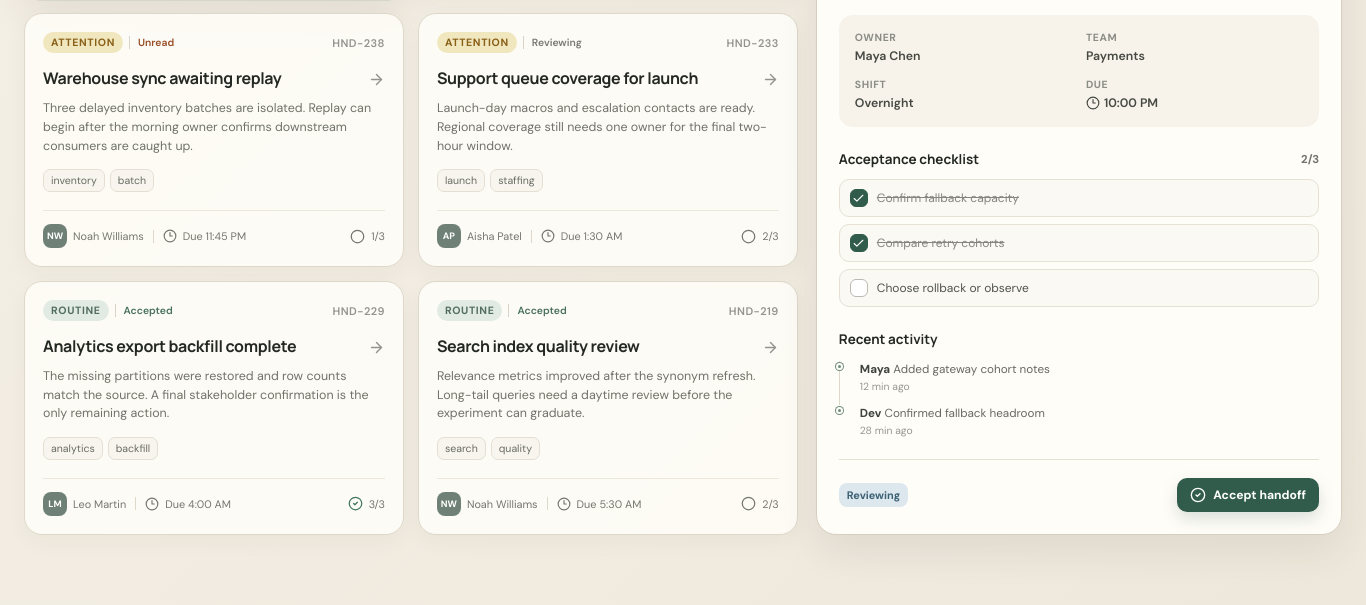
it: Handoff Lantern › advances a reviewed handoff to accepted
This screenshot has width=1366, height=605.
(page scrolled)
Click the button "Accept handoff" at (1248, 495), box [1177, 478, 1319, 512]
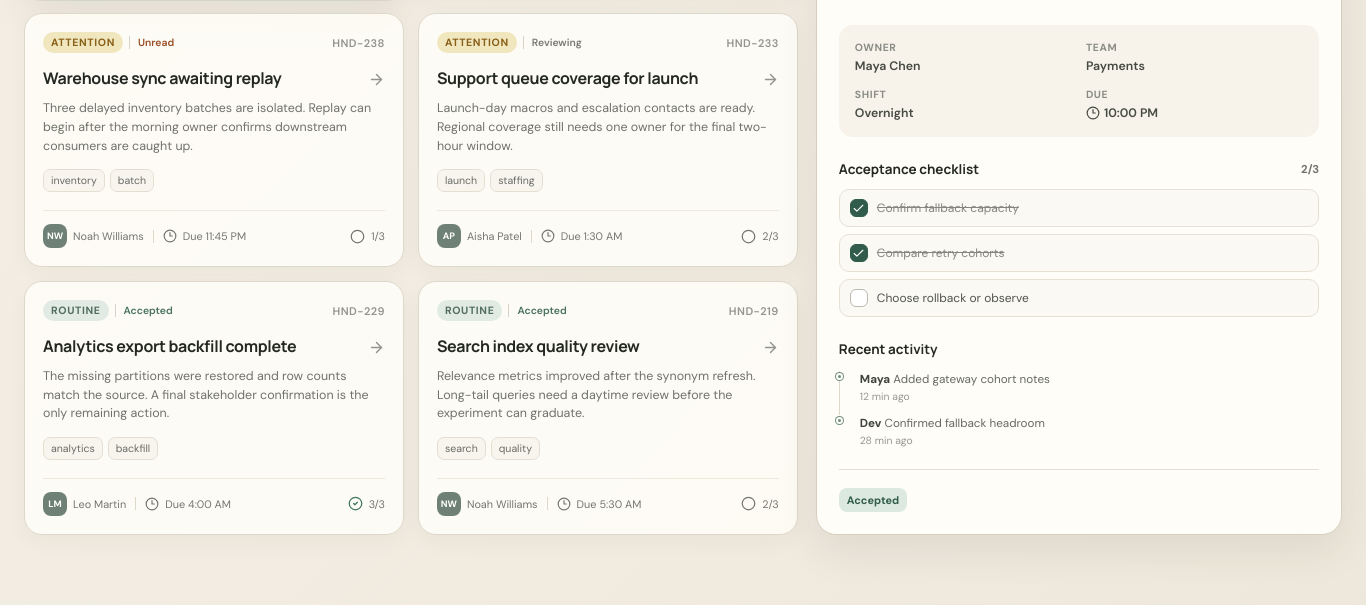
Expected: the text "Accepted" below "28 min ago" is shown, [847, 493, 899, 507]
Expected: the button "Accept handoff" is gone
